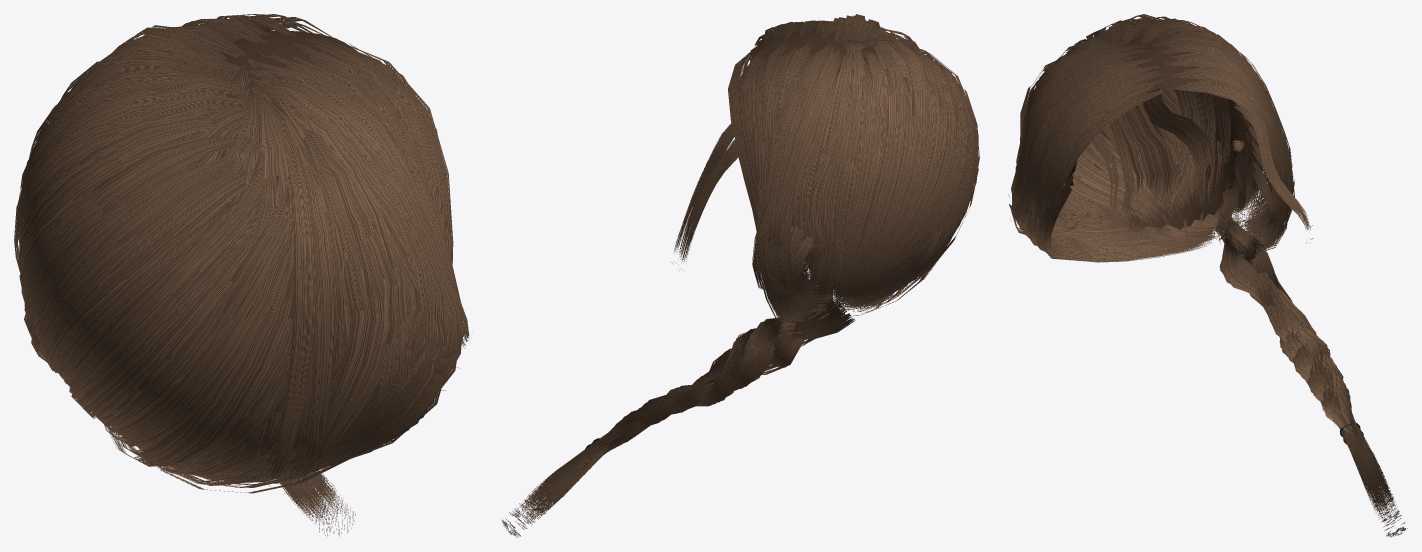
File: hair-female-braid.glb
3 renders of one model, left to right at view 1: azimuth 30°, elevation 25°; view 2: azimuth 150°, elevation 25°; view 3: azimuth 270°, elevation 25°, orthographic. The views are drawn at different scales.
Visible parts, largest first — view 1: Hair_braid_cards, Hair_braid_cap, Hair_braid_plait; view 2: Hair_braid_cards, Hair_braid_plait, Hair_braid_cap; view 3: Hair_braid_cards, Hair_braid_plait, Hair_braid_cap.
Part boxes in pixels (x1,y1,x2,y2): Hair_braid_cards: (14,14,469,493); Hair_braid_cap: (203,30,364,157); Hair_braid_plait: (92,412,355,536); Hair_braid_cards: (671,14,979,322); Hair_braid_plait: (501,279,855,537); Hair_braid_cap: (750,29,908,76); Hair_braid_cards: (1008,14,1312,262); Hair_braid_plait: (1219,214,1407,537); Hair_braid_cap: (1058,38,1254,236).
Size of the model in its own units: 0.2778 by 0.3646 by 0.3175.
Materials: 3 (1 with a texture image).
